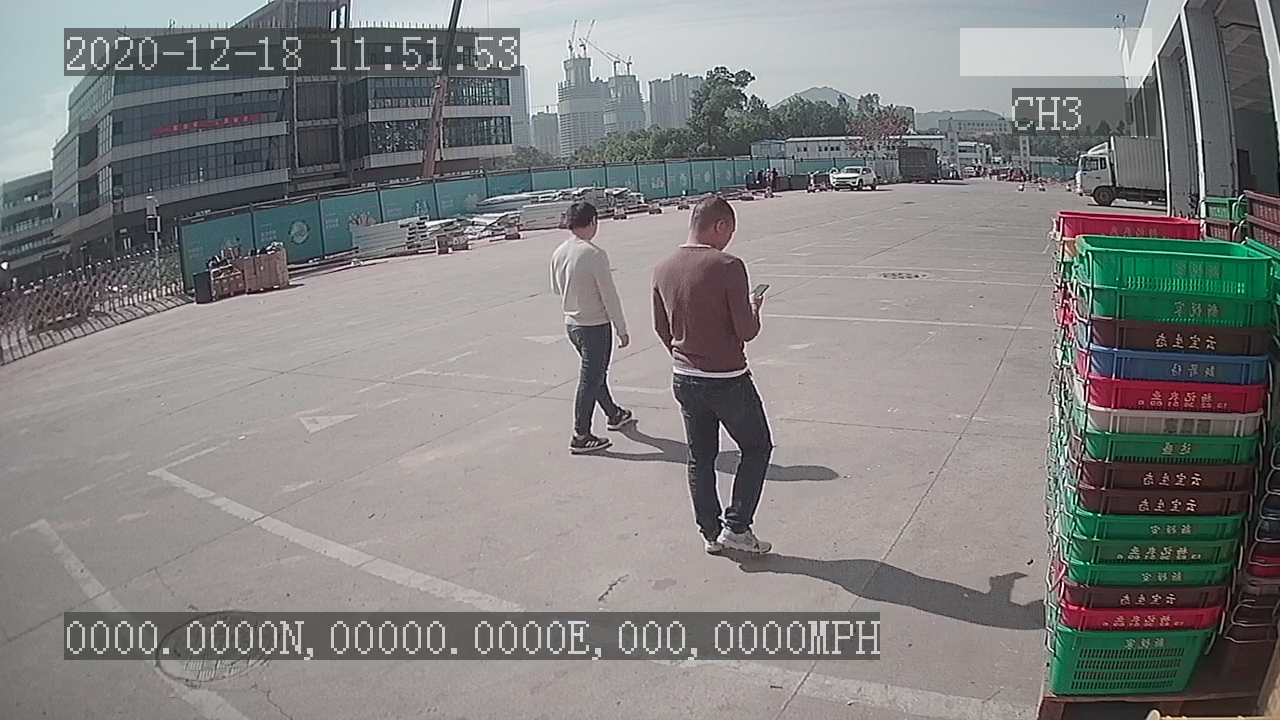person: (642, 186, 781, 563), (542, 194, 642, 463)
